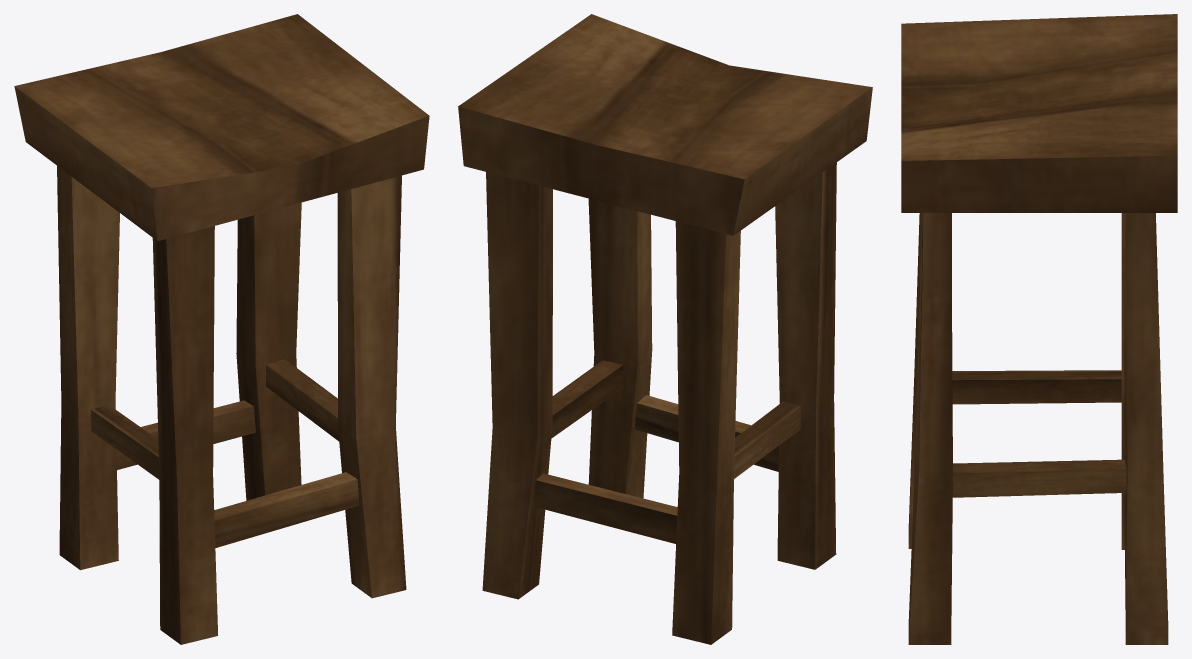
File: stool_bar_tall.fbx
3 renders of one model, left to right at view 1: azimuth 30°, elevation 25°; view 2: azimuth 150°, elevation 25°; view 3: azimuth 270°, elevation 25°, orthographic. The views are drawn at different scales.
Visible parts, largest first — view 1: barstool_seat, barstool_leg05, barstool_leg02, barstool_leg06, barstool_leg04, barstool_bar02, barstool_bar01, barstool_bar03, barstool_bar04; view 2: barstool_seat, barstool_leg04, barstool_leg06, barstool_leg02, barstool_leg05, barstool_bar04, barstool_bar01, barstool_bar03, barstool_bar02; view 3: barstool_seat, barstool_leg04, barstool_leg05, barstool_bar01, barstool_bar03, barstool_leg02, barstool_leg06.
Boxes of the visible parts, x1,y1,x2,y2 form: barstool_seat: (14, 14, 429, 241); barstool_leg05: (337, 175, 406, 598); barstool_leg02: (152, 226, 217, 644); barstool_leg06: (57, 166, 119, 570); barstool_leg04: (236, 202, 301, 500); barstool_bar02: (214, 472, 359, 547); barstool_bar01: (266, 359, 339, 441); barstool_bar03: (91, 405, 159, 479); barstool_bar04: (116, 400, 255, 469); barstool_seat: (458, 14, 872, 235); barstool_leg04: (482, 172, 552, 599); barstool_leg06: (672, 221, 740, 644); barstool_leg02: (775, 162, 836, 569); barstool_leg05: (588, 198, 652, 498); barstool_bar04: (533, 473, 677, 543); barstool_bar01: (551, 360, 623, 438); barstool_bar03: (734, 401, 800, 478); barstool_bar02: (634, 395, 778, 471); barstool_seat: (901, 14, 1177, 212); barstool_leg04: (1123, 213, 1168, 644); barstool_leg05: (908, 213, 952, 644); barstool_bar01: (952, 459, 1126, 497); barstool_bar03: (952, 370, 1121, 404); barstool_leg02: (908, 213, 951, 548); barstool_leg06: (1121, 213, 1125, 549).
Size of the model in its own units: 138 by 222 by 111.
Materials: 1 (1 with a texture image).
